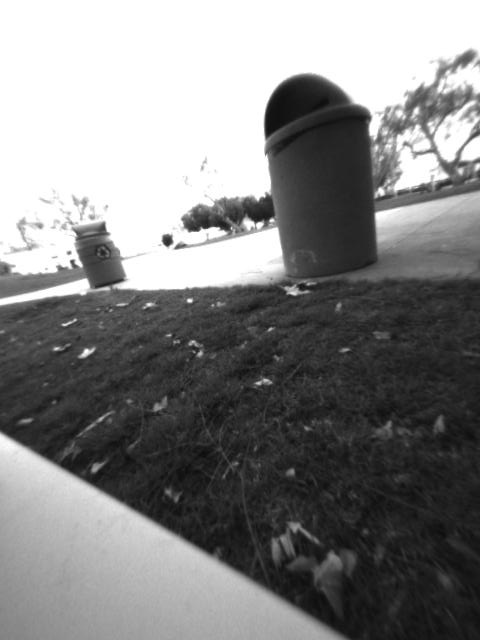trashcan: (262, 72, 382, 276)
